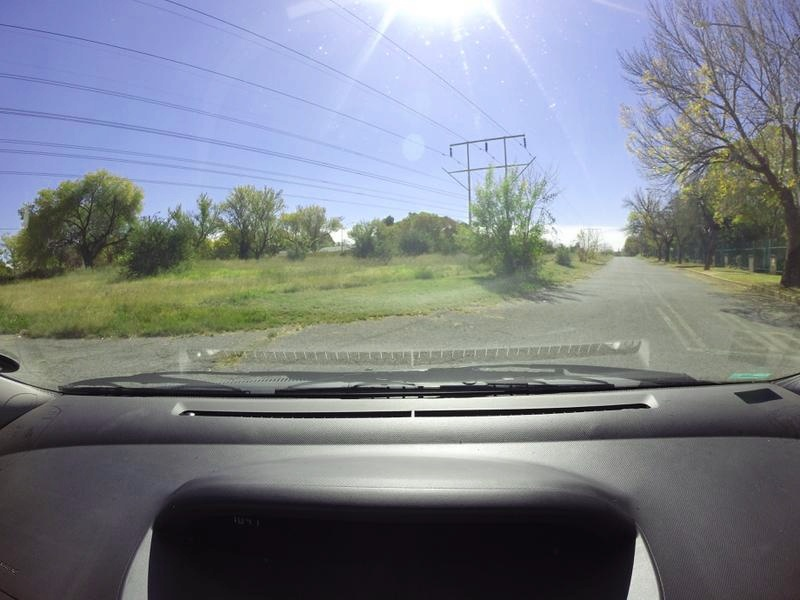pothole: (207, 348, 248, 372)
